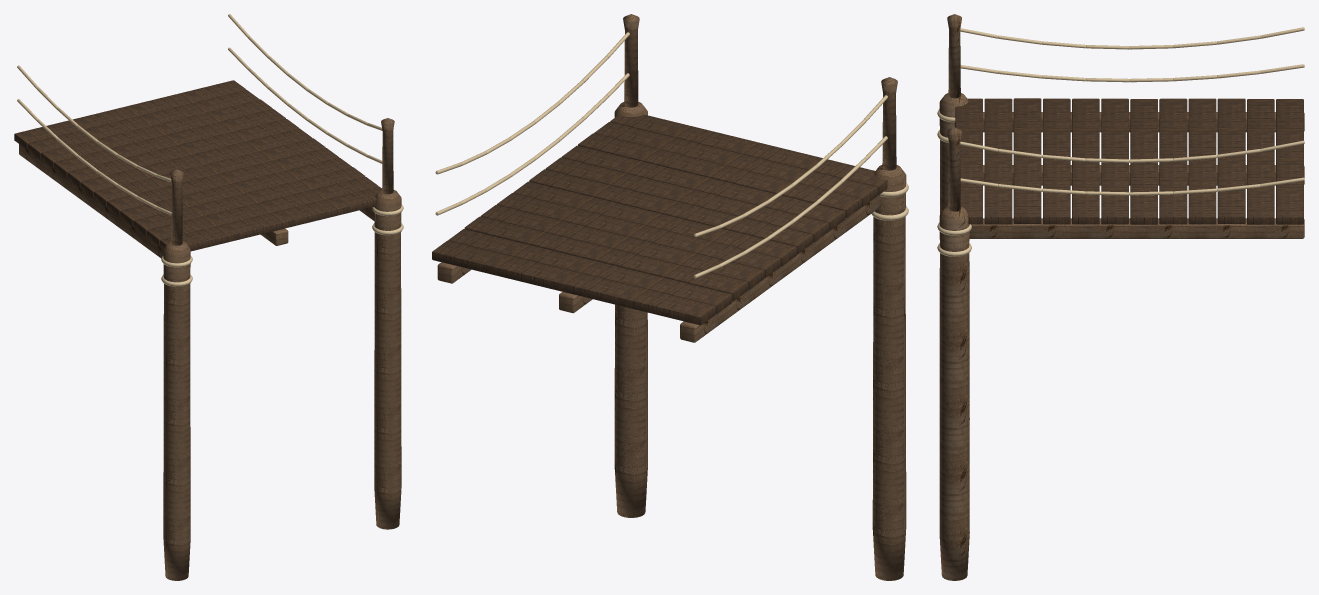
The model's file is pier_segment.glb.
3 renders of one model, left to right at view 1: azimuth 30°, elevation 25°; view 2: azimuth 150°, elevation 25°; view 3: azimuth 270°, elevation 25°, orthographic. The views are drawn at different scales.
Visible parts, largest first — view 1: pier_segment; view 2: pier_segment; view 3: pier_segment.
Part boxes in pixels (x1,y1,x2,y2): pier_segment: [14, 14, 403, 580]; pier_segment: [432, 14, 908, 580]; pier_segment: [937, 14, 1304, 580].
Bounding box in the file's own units: 2.6 × 4.24 × 3.15.
3 materials, 2 textured.
